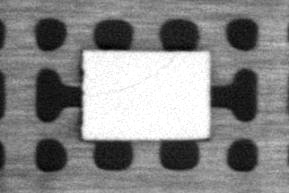DIE_CRACK: (116, 56, 177, 91)
